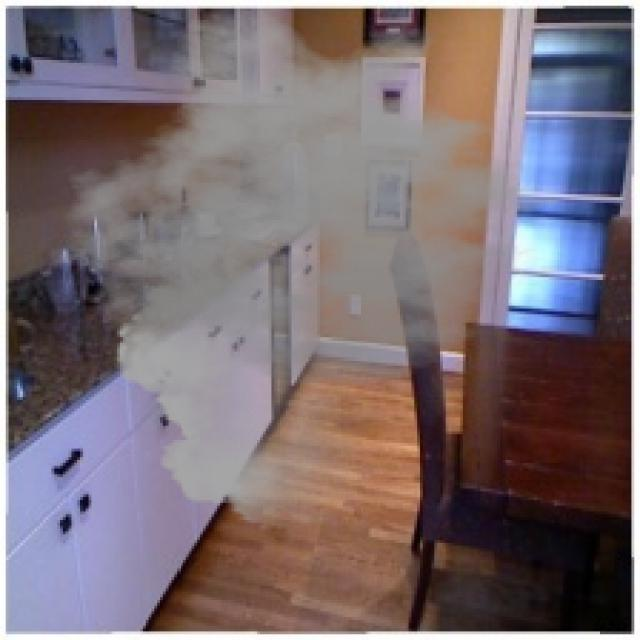smoke: (49, 6, 577, 531)
